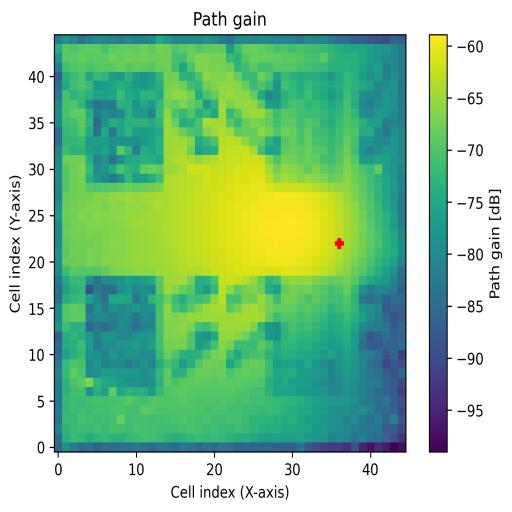Concrete: (266, 71, 344, 183)
Glass: (86, 72, 164, 184)
Metal: (265, 276, 344, 396)
Wood: (86, 277, 164, 398)
